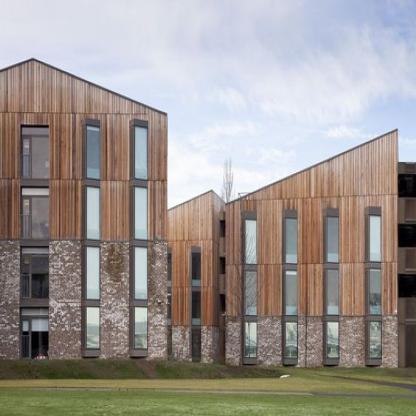Building Outline: (0, 58, 398, 368)
Facade: (0, 58, 399, 369)
Floor Slab: (227, 263, 396, 270), (226, 315, 397, 321), (0, 180, 167, 184), (1, 301, 167, 305), (1, 241, 167, 245), (156, 320, 211, 325), (156, 281, 211, 286)
Glass Wall: (135, 126, 148, 180), (135, 186, 148, 240), (32, 198, 49, 239), (32, 258, 49, 299), (32, 138, 49, 179), (135, 247, 148, 300), (87, 126, 100, 179), (87, 187, 100, 240), (32, 319, 49, 359), (87, 246, 100, 298), (327, 217, 339, 262), (87, 307, 100, 348), (327, 270, 339, 314), (370, 216, 381, 261), (135, 307, 147, 348), (286, 271, 297, 315), (286, 219, 297, 263), (370, 270, 381, 314), (246, 272, 257, 315), (246, 220, 256, 264), (327, 322, 339, 357), (286, 322, 297, 358), (370, 322, 381, 358), (246, 322, 257, 357), (22, 321, 29, 360), (192, 253, 201, 280), (162, 253, 171, 280), (192, 329, 201, 356), (192, 292, 201, 318), (162, 331, 171, 355), (162, 296, 171, 318)
Window: (219, 294, 233, 312), (219, 257, 233, 274), (23, 139, 29, 178), (23, 200, 29, 239), (23, 259, 29, 298), (219, 221, 233, 237), (22, 128, 49, 134), (22, 189, 49, 195), (21, 310, 48, 315), (22, 248, 49, 253)
